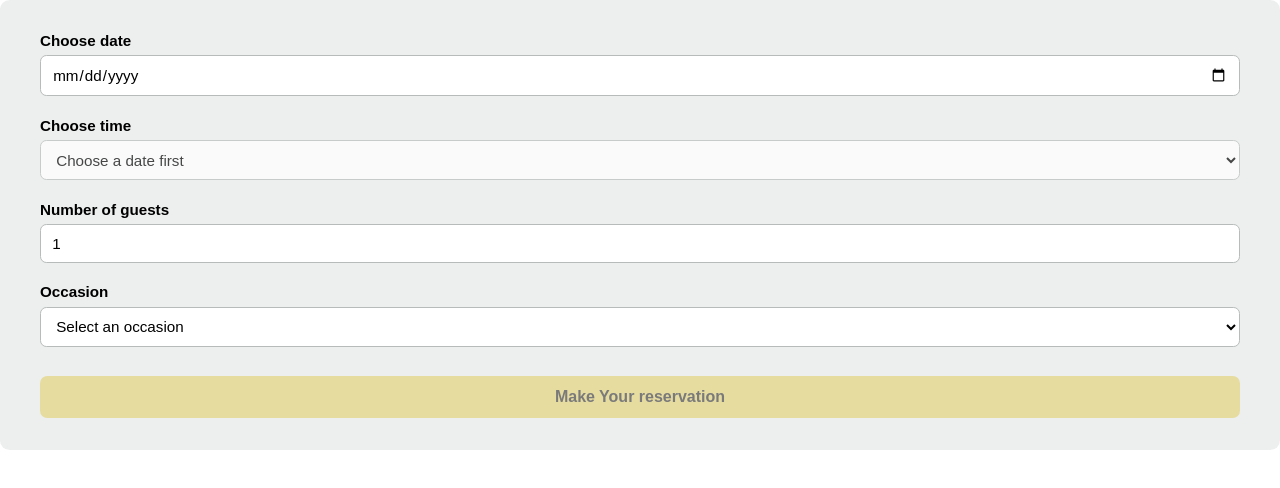
Date field validation › shows an error for a past date
Type "2020-01-01" into the date field labelled "Choose date" at (640, 76), box 40,55 -> 1240,96
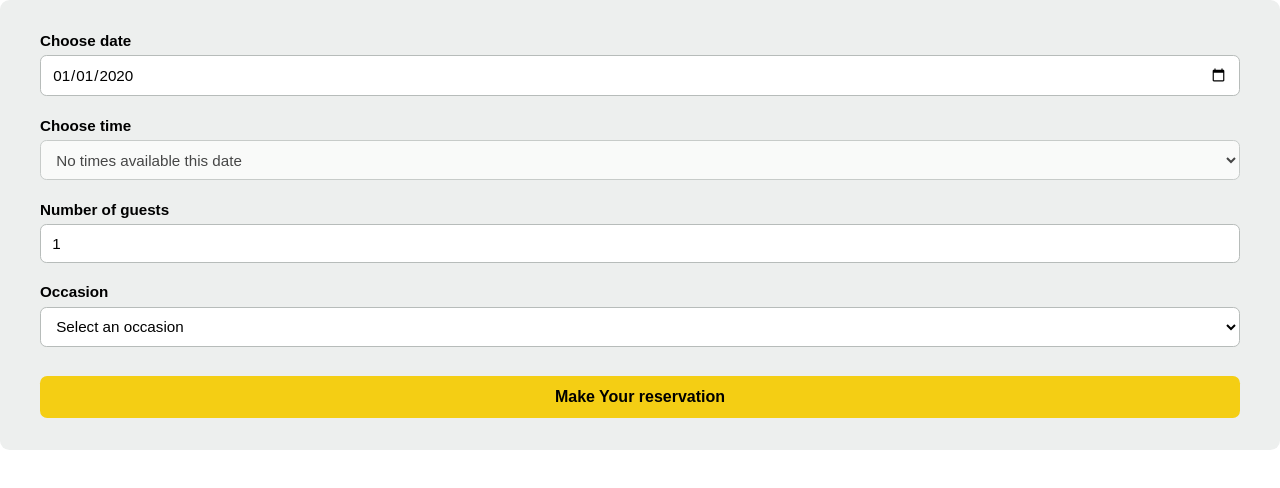
Leave the date field labelled "Choose date", box 40,55 -> 1240,96
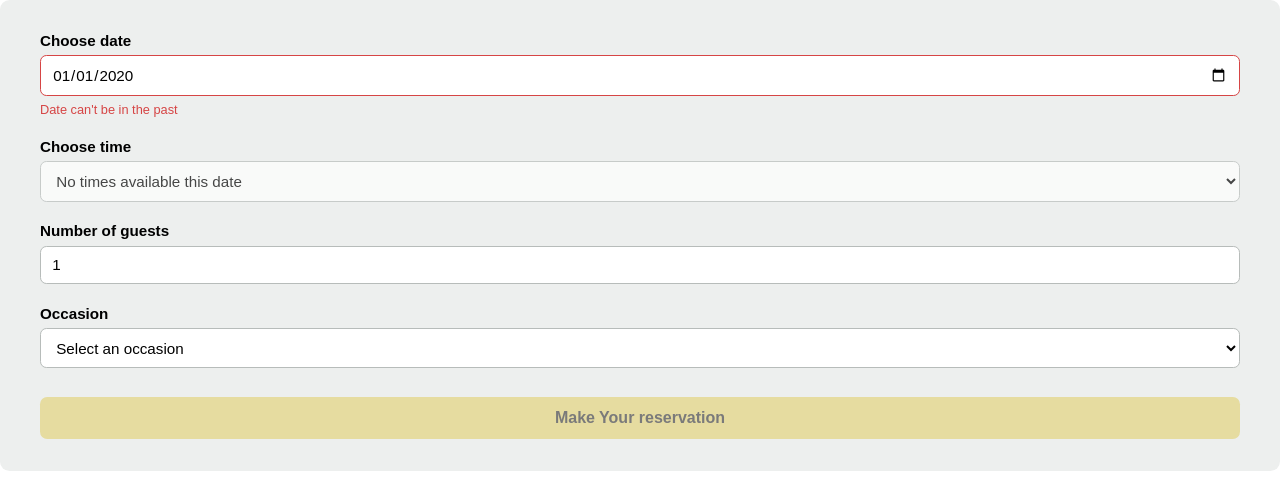
expect the text "Date can't be in the past" is shown: met, box 40,102 -> 178,117
